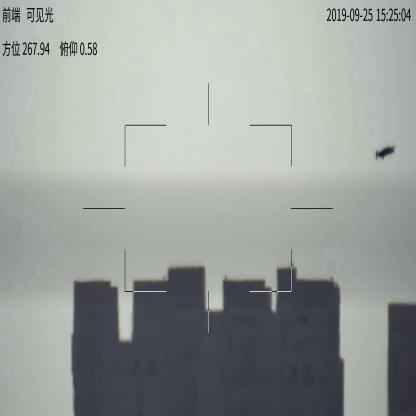uav: (373, 146, 394, 162)
